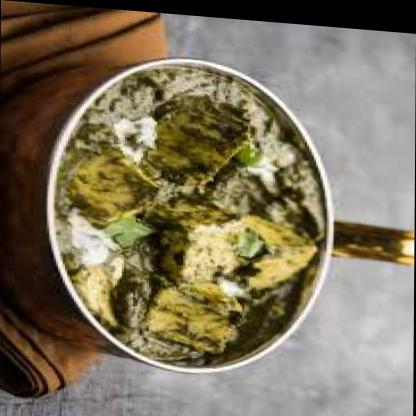palak_paneer: (51, 55, 324, 368)
